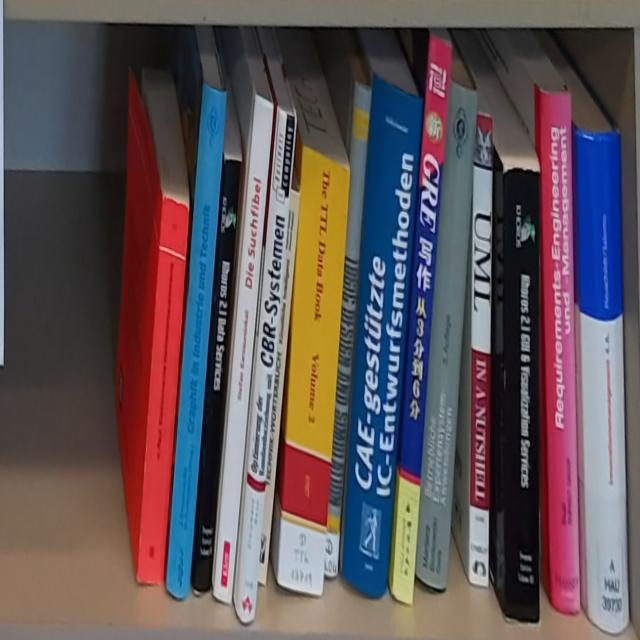Book Spine: (343, 74, 423, 597), (390, 33, 452, 609), (277, 146, 350, 597), (235, 107, 297, 625), (214, 91, 275, 608), (167, 83, 228, 599), (416, 80, 477, 592), (578, 131, 630, 634), (324, 80, 371, 580), (193, 159, 242, 595), (540, 89, 580, 614), (137, 197, 190, 587), (259, 190, 300, 588), (505, 168, 540, 625), (471, 113, 493, 590)
